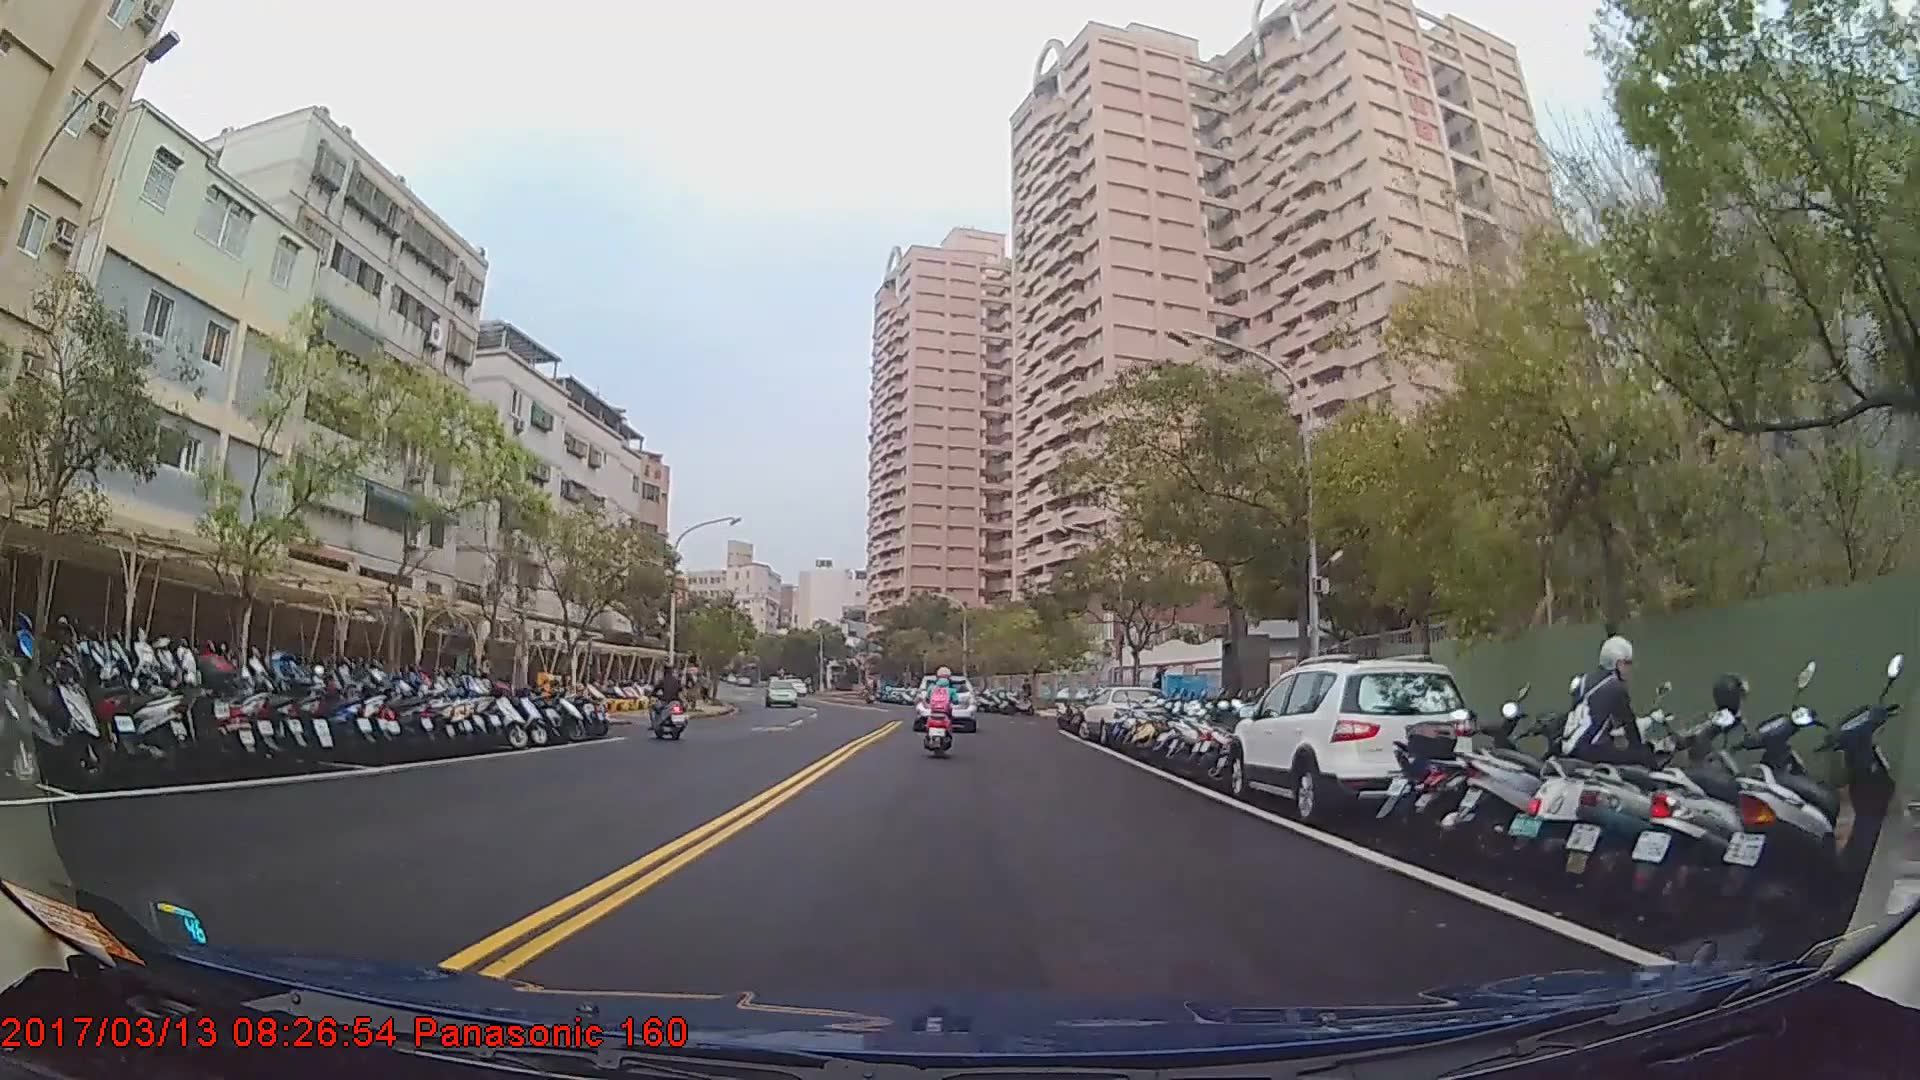rider: (920, 662, 961, 765), (649, 664, 687, 746)
vehicle: (1226, 660, 1479, 825), (1076, 683, 1167, 747), (911, 674, 975, 731), (762, 680, 799, 708)
